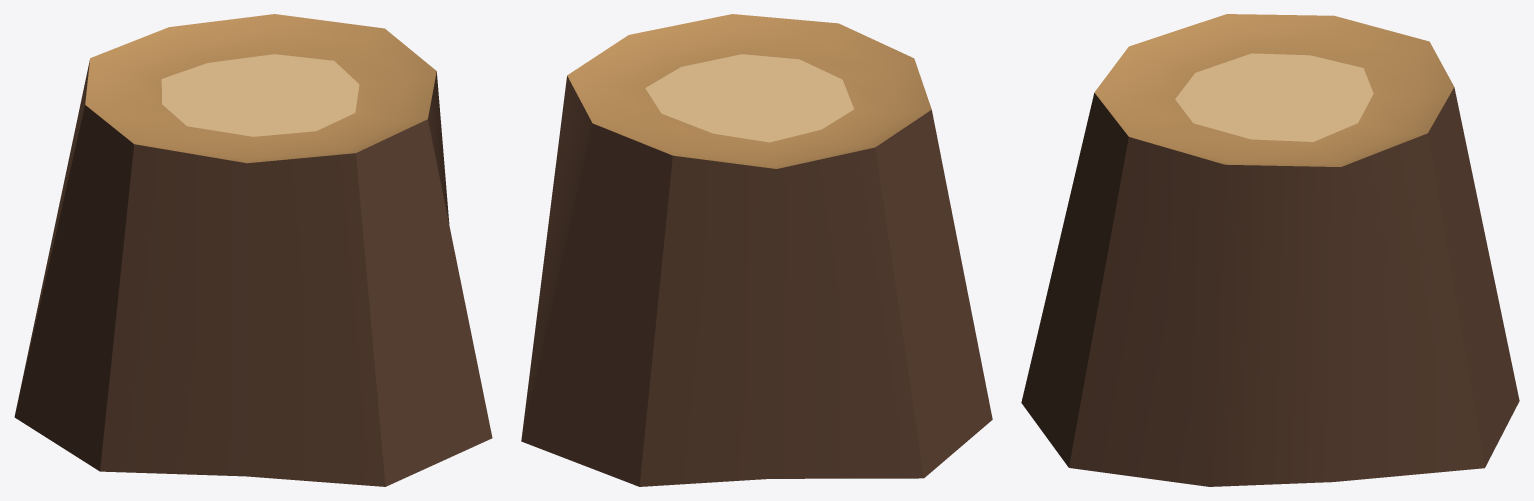
The model's file is SM_Tree_Stump.glb.
3 views of the same model, side by side, from view 1: azimuth 30°, elevation 25°; view 2: azimuth 150°, elevation 25°; view 3: azimuth 270°, elevation 25° (orthographic). The views are drawn at different scales.
Visible parts, largest first — view 1: SM_Tree_Stump; view 2: SM_Tree_Stump; view 3: SM_Tree_Stump.
Part boxes in pixels (box(x1,y1,x2,y2)): SM_Tree_Stump: box(14, 14, 492, 486); SM_Tree_Stump: box(521, 14, 992, 486); SM_Tree_Stump: box(1021, 14, 1519, 486).
Size of the model in its own units: 0.5773 by 0.45 by 0.6483.
Materials: 1 (1 with a texture image).
